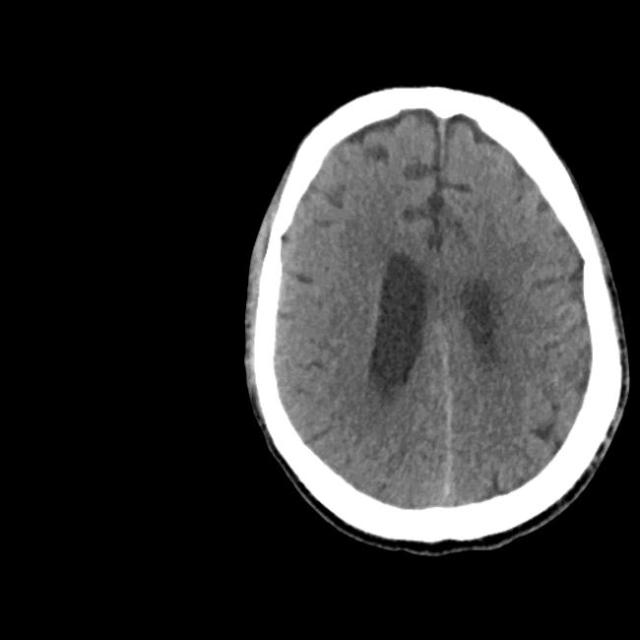lesion: (240, 83, 630, 554)
